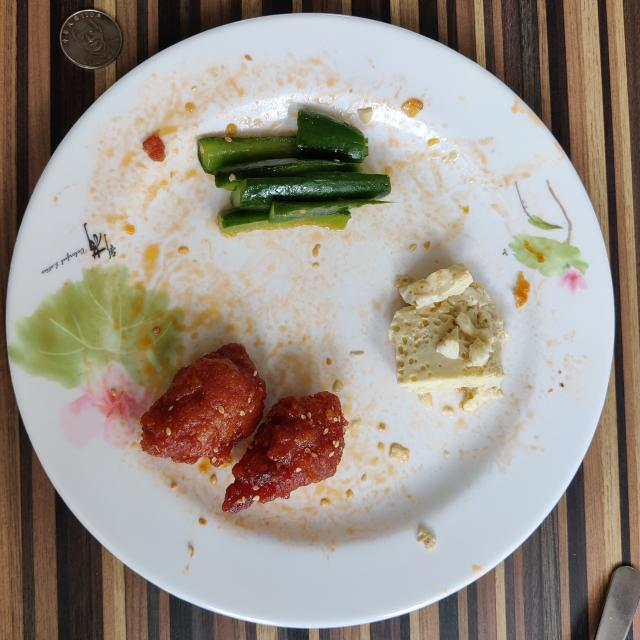coin: (60, 10, 122, 69)
cucumber: (198, 108, 391, 236)
